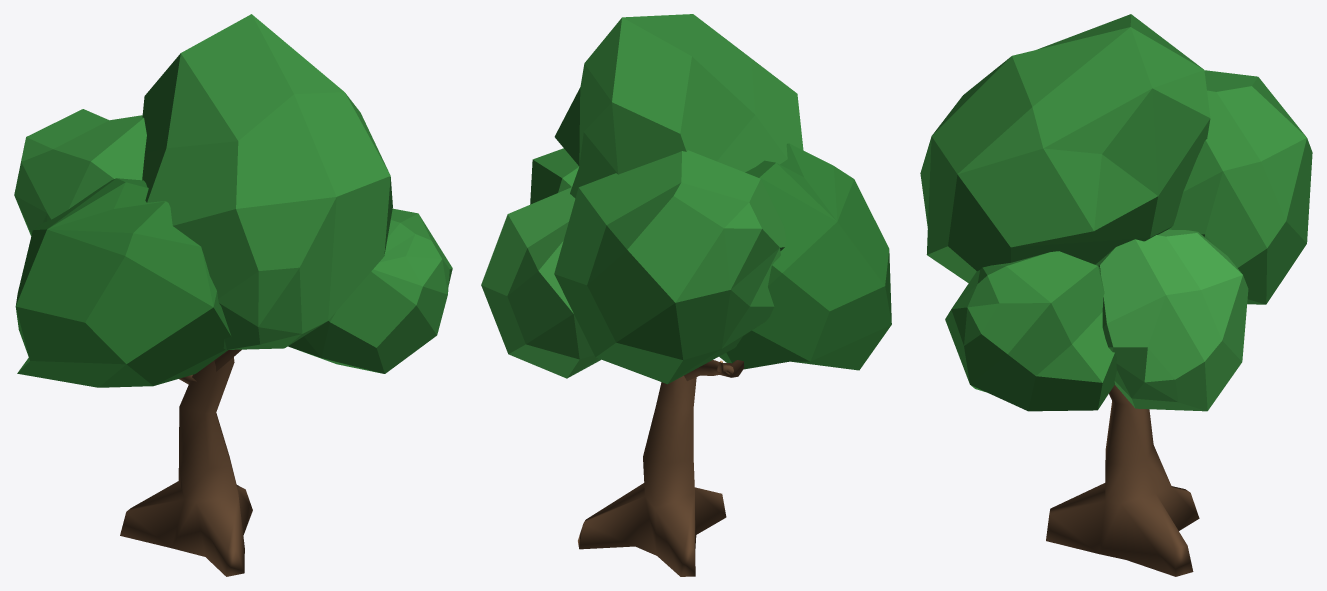
The model's file is Tree_A.fbx.
The picture shows the model from 3 angles, left to right: view 1: azimuth 30°, elevation 25°; view 2: azimuth 150°, elevation 25°; view 3: azimuth 270°, elevation 25°; orthographic projection. The views are drawn at different scales.
Visible parts, largest first — view 1: Tree_A; view 2: Tree_A; view 3: Tree_A.
Part boxes in pixels (left/top/right/bottom): Tree_A: left=14, top=14, right=452, bottom=576; Tree_A: left=481, top=14, right=891, bottom=576; Tree_A: left=920, top=14, right=1312, bottom=576.
Bounding box in the file's own units: 383 × 483 × 319.
